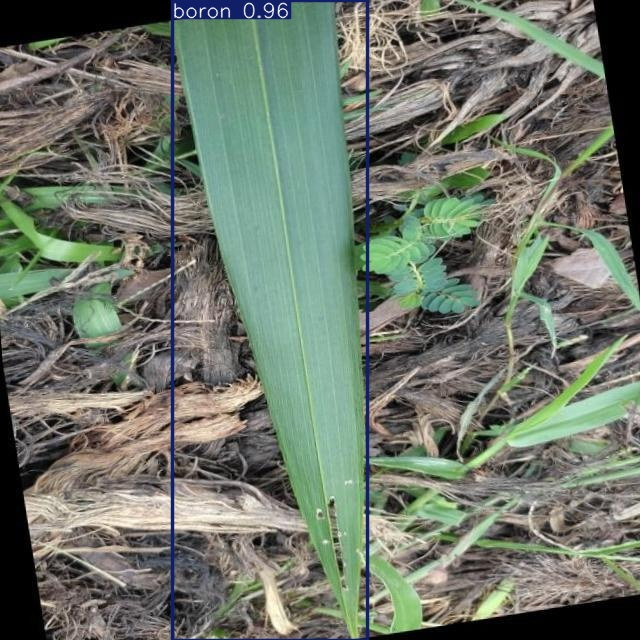nitrogen: (172, 1, 368, 640)
